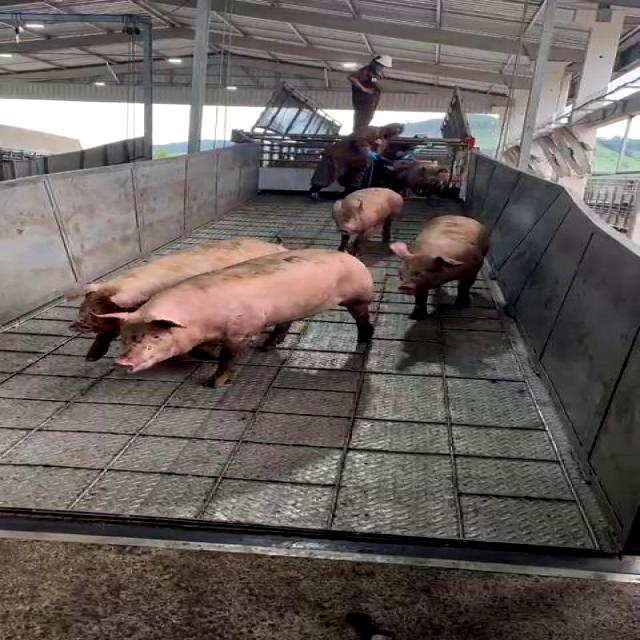pig: (110, 252, 374, 386), (71, 238, 285, 361), (392, 216, 489, 317), (334, 188, 402, 255)
